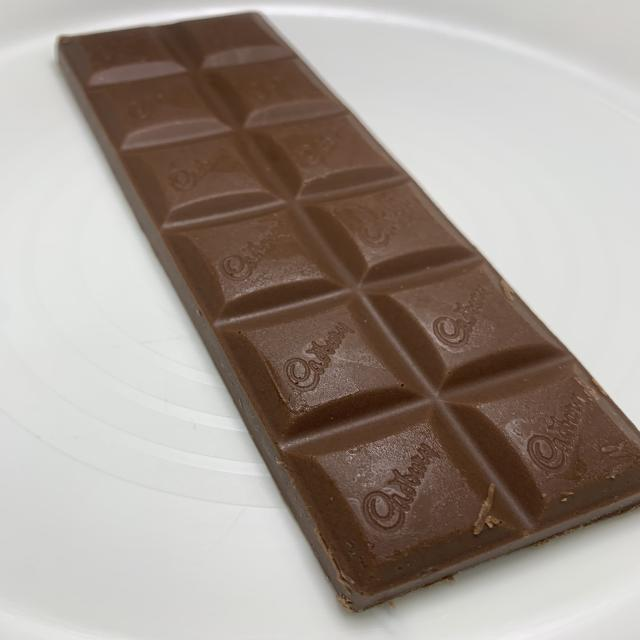Chocolate: (57, 9, 640, 610)
